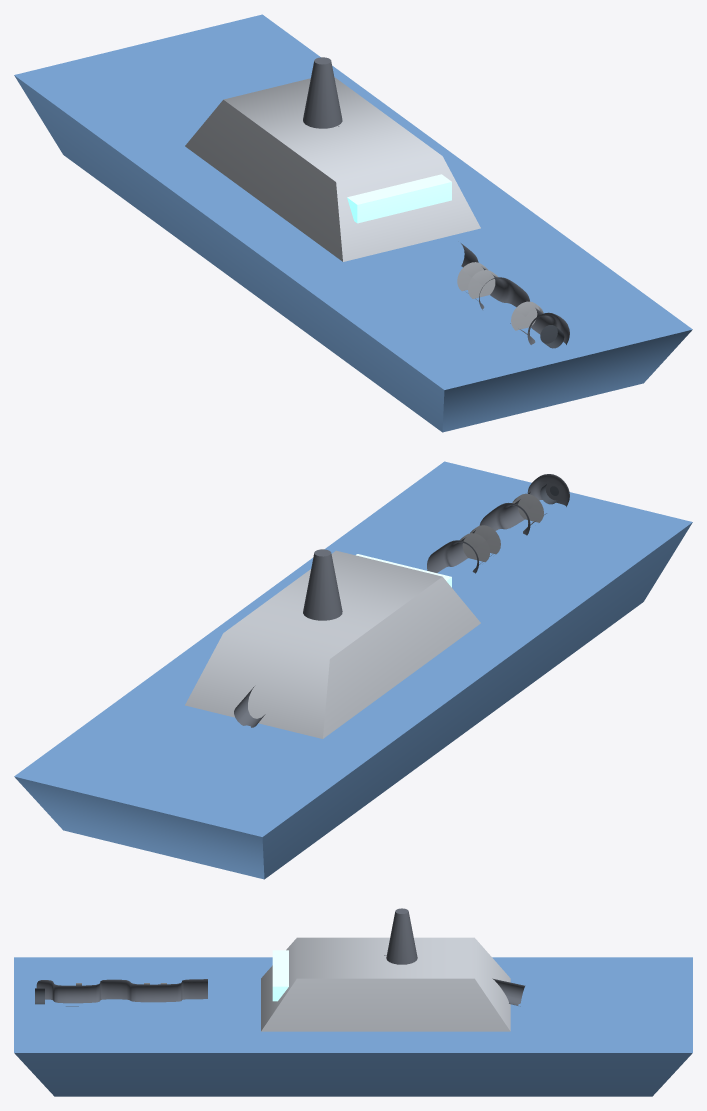
The model's file is cdest.glb.
3 renders of one model, top to bottom at view 1: azimuth 30°, elevation 25°; view 2: azimuth 150°, elevation 25°; view 3: azimuth 270°, elevation 25°, orthographic. The views are drawn at different scales.
Parts seen in each view (by area): view 1: Hull, Turret, Barrel; view 2: Hull, Turret, Barrel; view 3: Hull, Turret, Barrel.
Boxes of the visible parts, <box> form: Hull: <box>14,14,692,432</box>; Turret: <box>185,57,451,261</box>; Barrel: <box>461,243,566,326</box>; Hull: <box>14,461,692,879</box>; Turret: <box>185,549,451,738</box>; Barrel: <box>429,474,567,557</box>; Hull: <box>14,938,692,1096</box>; Turret: <box>261,908,525,1031</box>; Barrel: <box>36,979,207,986</box>.
Size of the model in its own units: 1.68 by 1.2 by 5.04.
